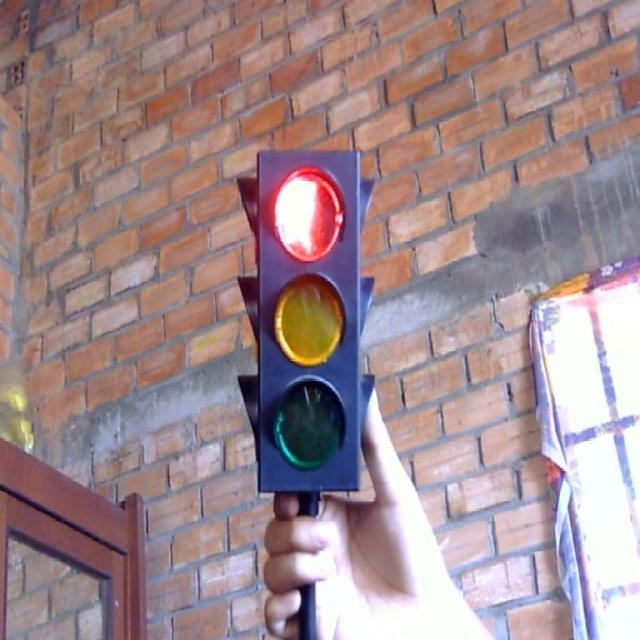red light: (266, 160, 352, 268)
